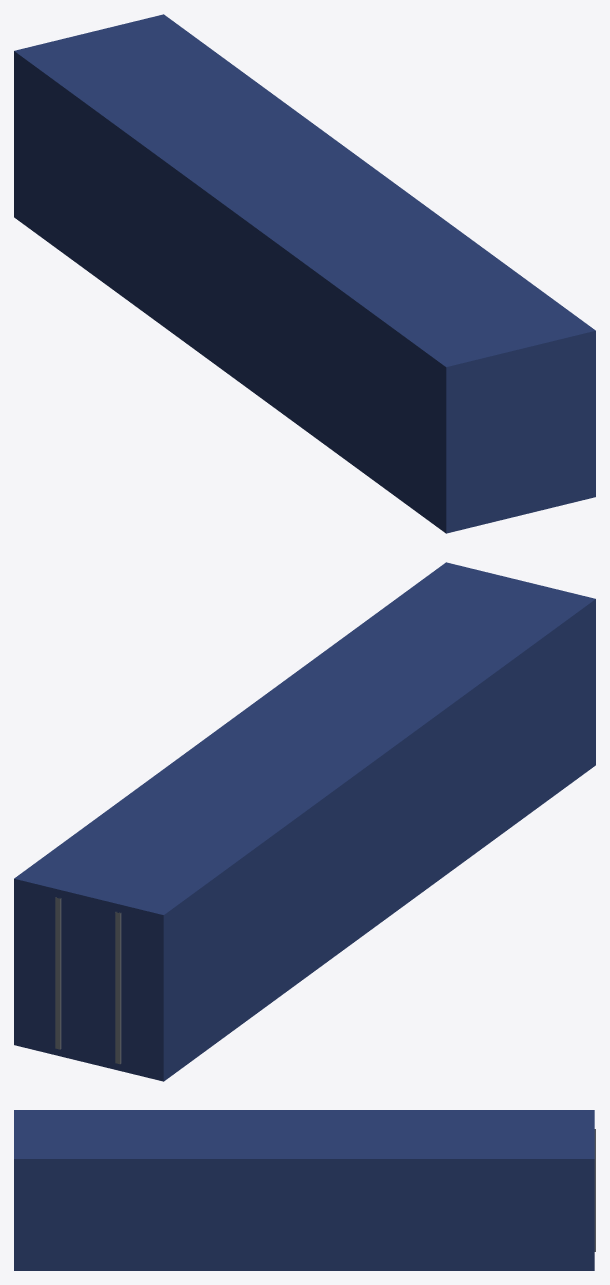
3 renders of one model, top to bottom at view 1: azimuth 30°, elevation 25°; view 2: azimuth 150°, elevation 25°; view 3: azimuth 270°, elevation 25°, orthographic. The views are drawn at different scales.
Visible parts, largest first — view 1: 419; view 2: 419; view 3: 419.
Boxes of the visible parts, <box> form: 419: <box>14,14,595,533</box>; 419: <box>14,562,595,1081</box>; 419: <box>14,1110,595,1270</box>.
Size of the model in its own units: 2.44 by 2.59 by 12.22.
